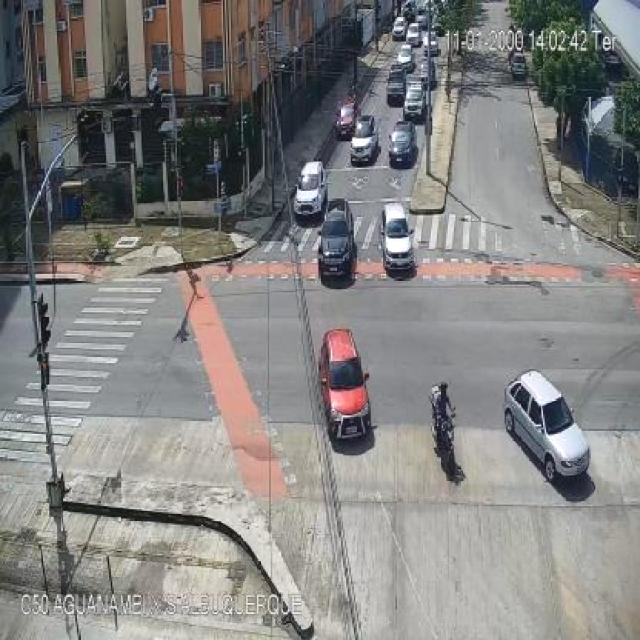Car: (505, 372, 591, 482), (319, 329, 372, 441), (317, 199, 357, 284), (380, 204, 414, 276), (294, 161, 327, 218), (349, 115, 378, 163), (388, 120, 416, 163), (334, 97, 358, 139), (402, 81, 427, 120), (385, 68, 409, 105), (510, 53, 528, 80), (420, 58, 436, 88), (396, 45, 414, 69), (422, 34, 439, 57), (406, 22, 421, 45), (392, 17, 407, 40), (416, 12, 429, 31)
